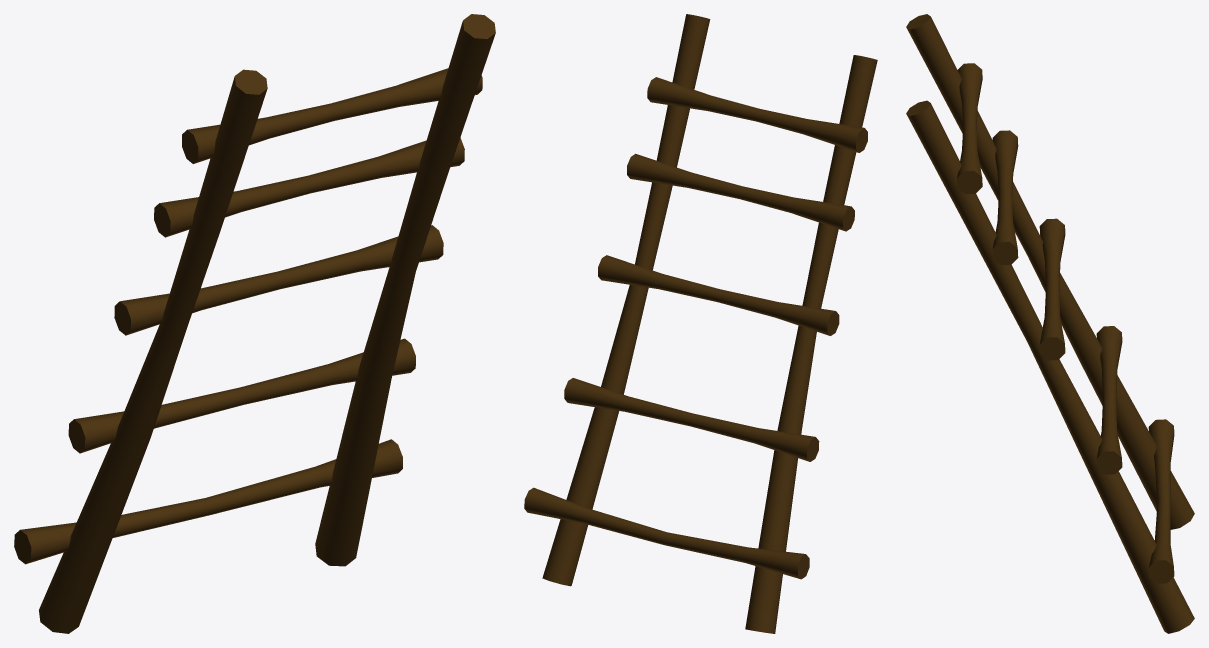
Rendered from Ladder.fbx.
3 views of the same model, side by side, from view 1: azimuth 30°, elevation 25°; view 2: azimuth 150°, elevation 25°; view 3: azimuth 270°, elevation 25° (orthographic). The views are drawn at different scales.
Visible parts, largest first — view 1: Ladder; view 2: Ladder; view 3: Ladder.
Boxes of the visible parts, <box> form: Ladder: <box>14,14,495,633</box>; Ladder: <box>524,14,877,633</box>; Ladder: <box>906,14,1194,633</box>.
Size of the model in its own units: 154 by 264 by 133.
